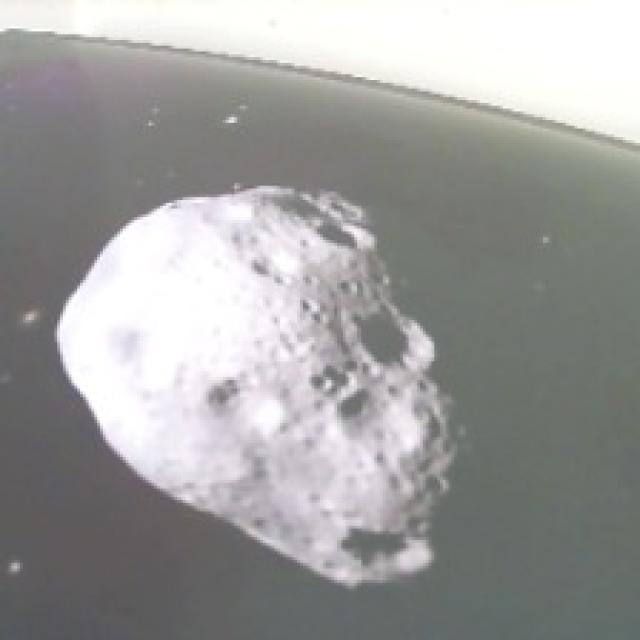Asteroid: (47, 182, 479, 591)
